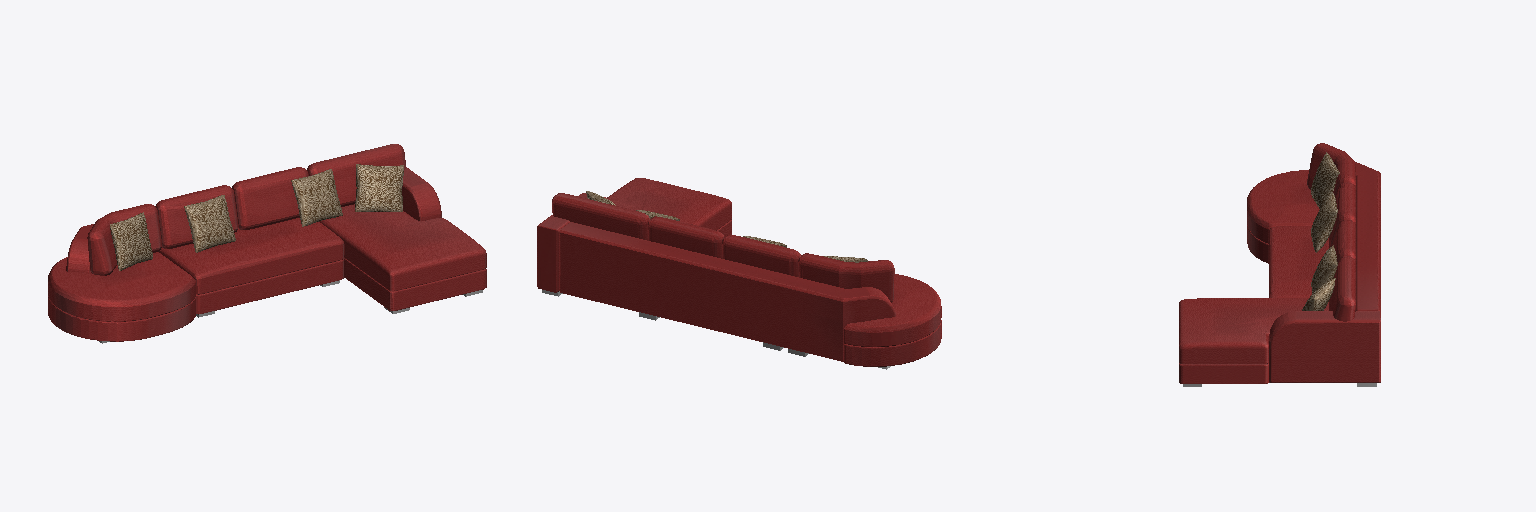
The picture shows the model from 3 angles: view 1: azimuth 30°, elevation 25°; view 2: azimuth 150°, elevation 25°; view 3: azimuth 270°, elevation 25°; orthographic projection.
Parts seen in each view (by area): view 1: solid_001, solid_002; view 2: solid_001, solid_002; view 3: solid_001, solid_002.
Boxes of the visible parts, x1=… form: solid_001: x1=48, y1=144, x2=486, y2=341; solid_002: x1=110, y1=164, x2=403, y2=270; solid_001: x1=537, y1=178, x2=941, y2=366; solid_002: x1=586, y1=191, x2=867, y2=262; solid_001: x1=1179, y1=143, x2=1380, y2=383; solid_002: x1=1302, y1=152, x2=1339, y2=310.
Bounding box in the file's own units: 2 × 0.4688 × 0.9657.
1 materials, 1 textured.